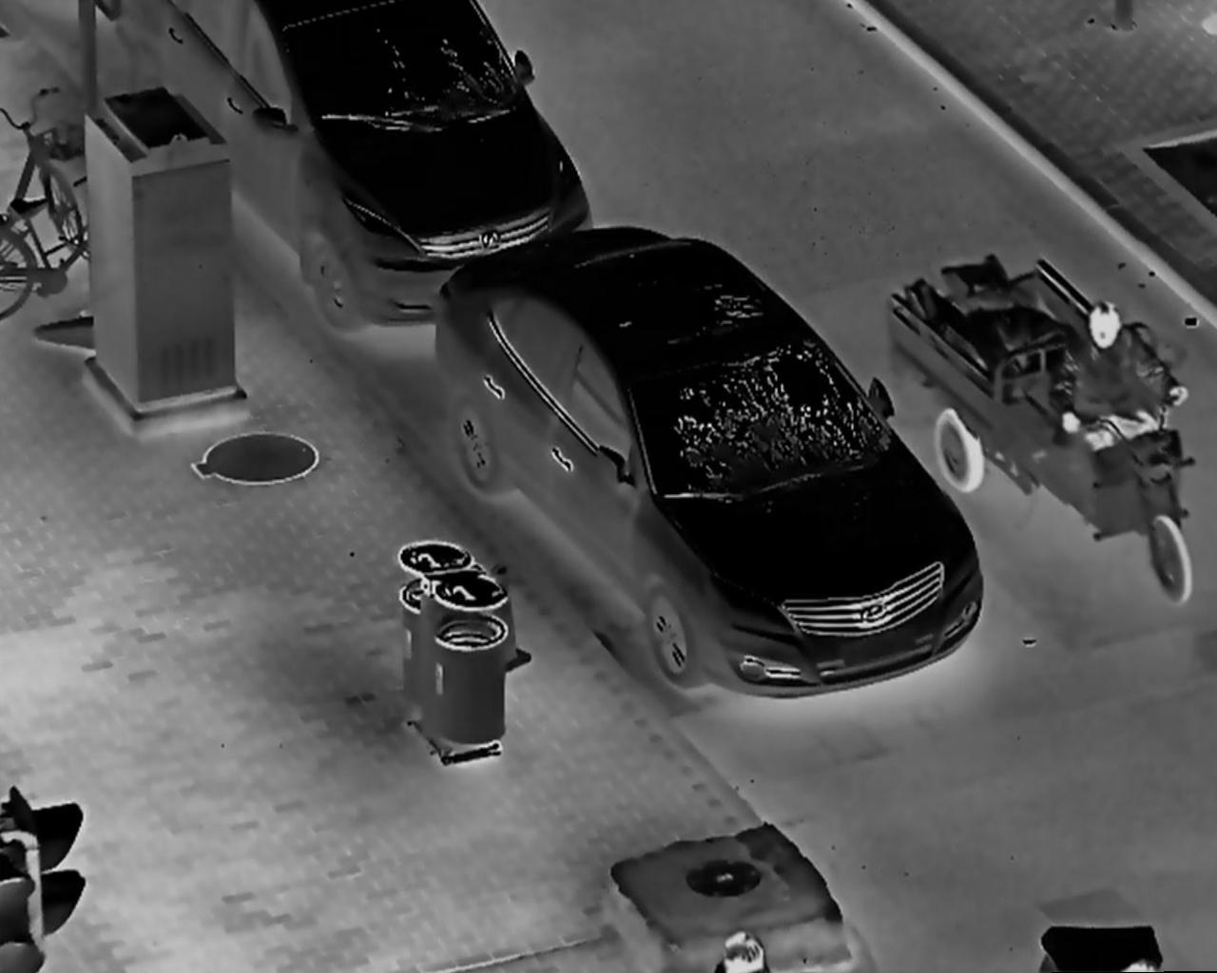person: (1054, 292, 1192, 500)
